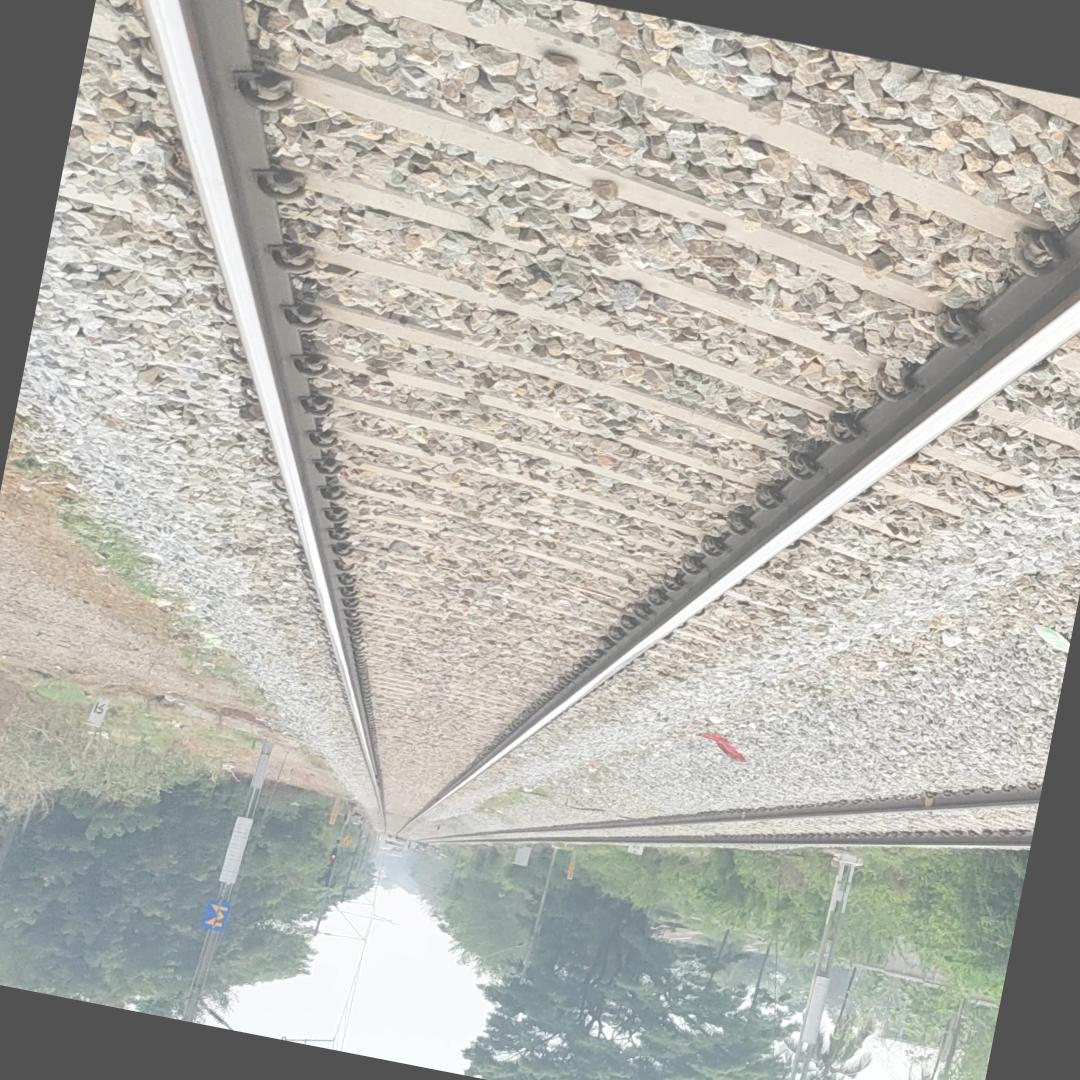track: (118, 0, 1080, 842)
